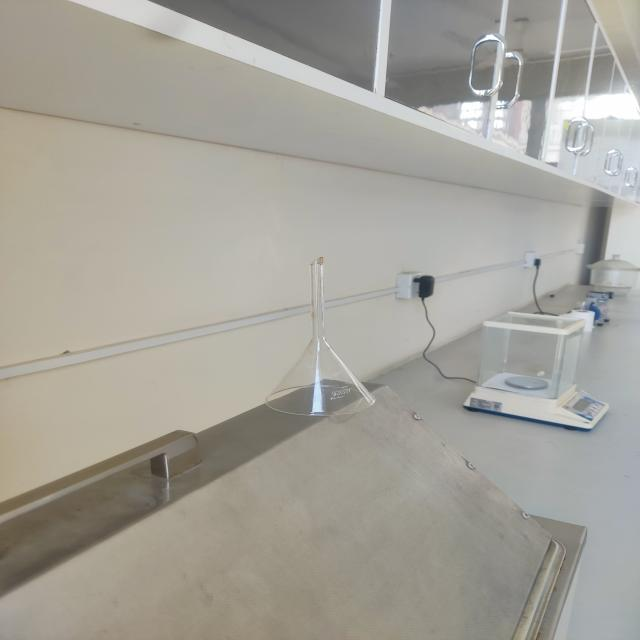Funnel: (242, 243, 408, 431)
